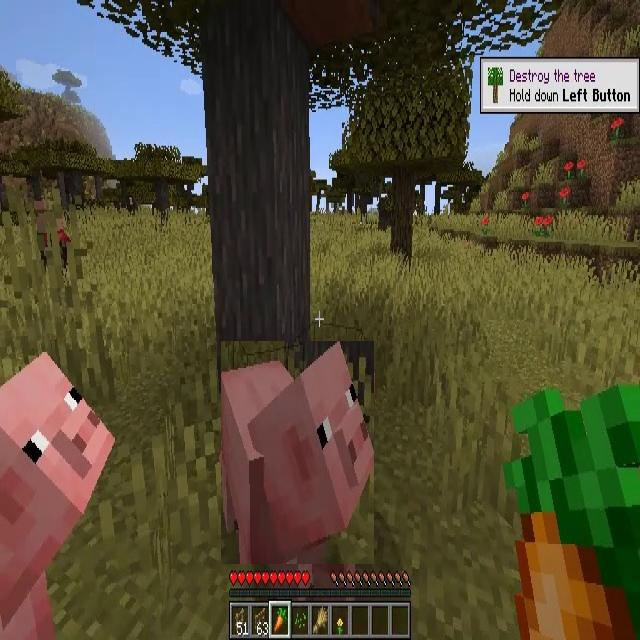people: (37, 181, 67, 273)
pig: (221, 341, 374, 564), (0, 352, 115, 640)
